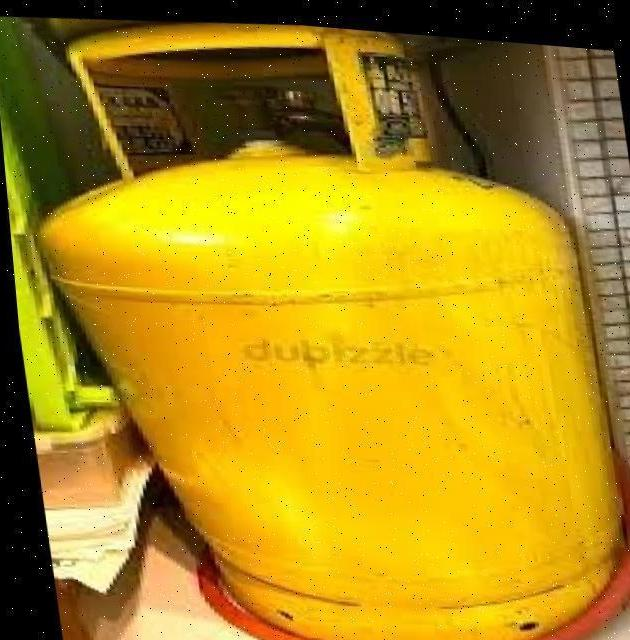cylinder: (1, 1, 630, 640)
